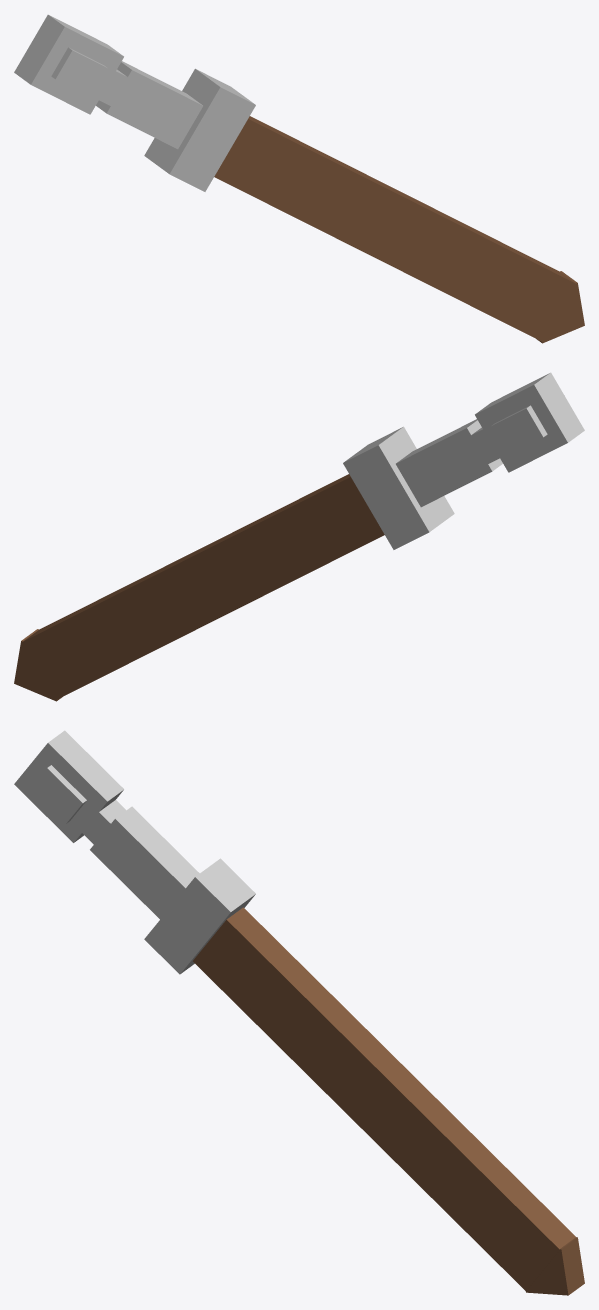
The model's file is sword_wood.gltf.
3 renders of one model, top to bottom at view 1: azimuth 30°, elevation 25°; view 2: azimuth 150°, elevation 25°; view 3: azimuth 330°, elevation 25°, orthographic.
Parts seen in each view (by area): view 1: Blade, Node3D, Tip; view 2: Blade, Node3D, Tip; view 3: Blade, Node3D, Tip.
Part boxes in pixels (box(x1,y1,x2,y2)): Blade: box(214, 116, 576, 341); Node3D: box(14, 14, 255, 191); Tip: box(536, 271, 584, 343); Blade: box(22, 474, 384, 699); Node3D: box(343, 372, 584, 549); Tip: box(14, 629, 62, 701); Blade: box(193, 907, 575, 1290); Node3D: box(14, 730, 255, 974); Tip: box(526, 1237, 584, 1295).
Bounding box in the file's own units: 0.8152 × 0.6092 × 0.0645.
